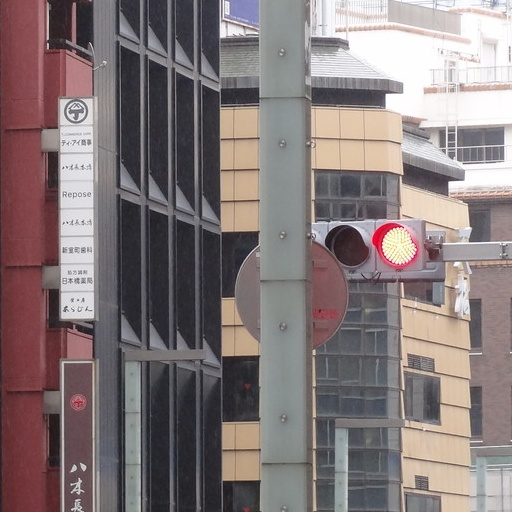Traffic_Signal_Red: (309, 218, 442, 282)
